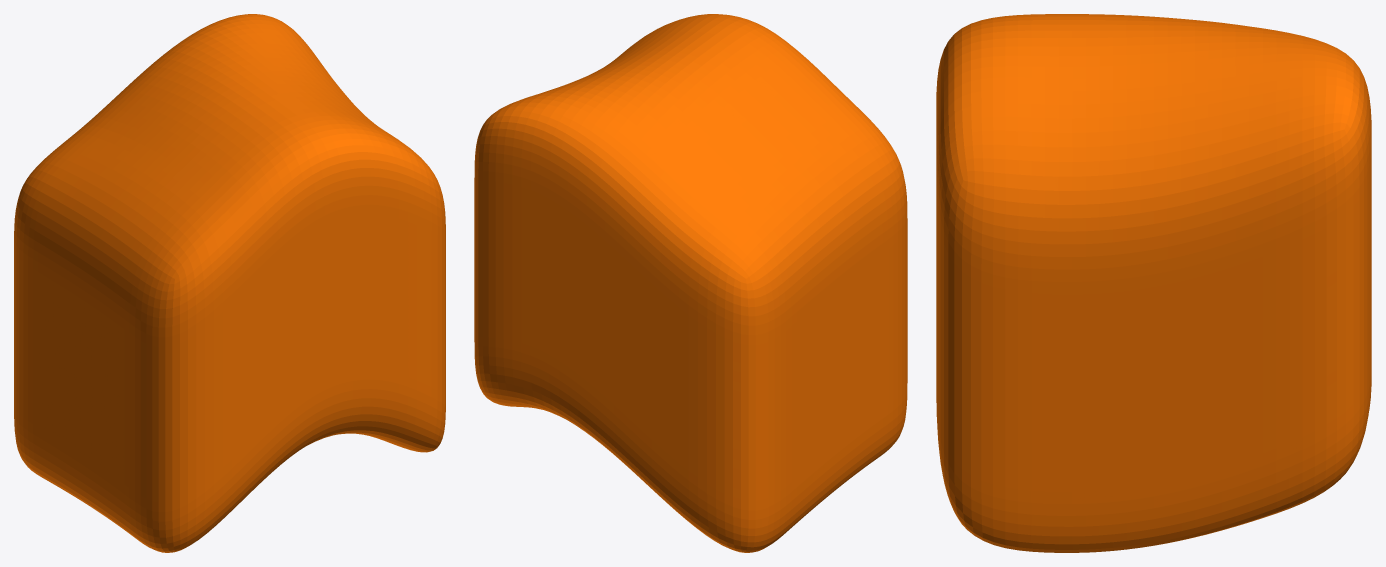
The picture shows the model from 3 angles, left to right: view 1: azimuth 30°, elevation 25°; view 2: azimuth 150°, elevation 25°; view 3: azimuth 270°, elevation 25°; orthographic projection. The views are drawn at different scales.
Parts seen in each view (by area): view 1: smooth_1_base.022; view 2: smooth_1_base.022; view 3: smooth_1_base.022.
Part boxes in pixels (x1,y1,x2,y2): smooth_1_base.022: [14, 14, 445, 552]; smooth_1_base.022: [474, 14, 907, 552]; smooth_1_base.022: [936, 14, 1371, 552].
Size of the model in its own units: 60 by 77.15 by 60.
